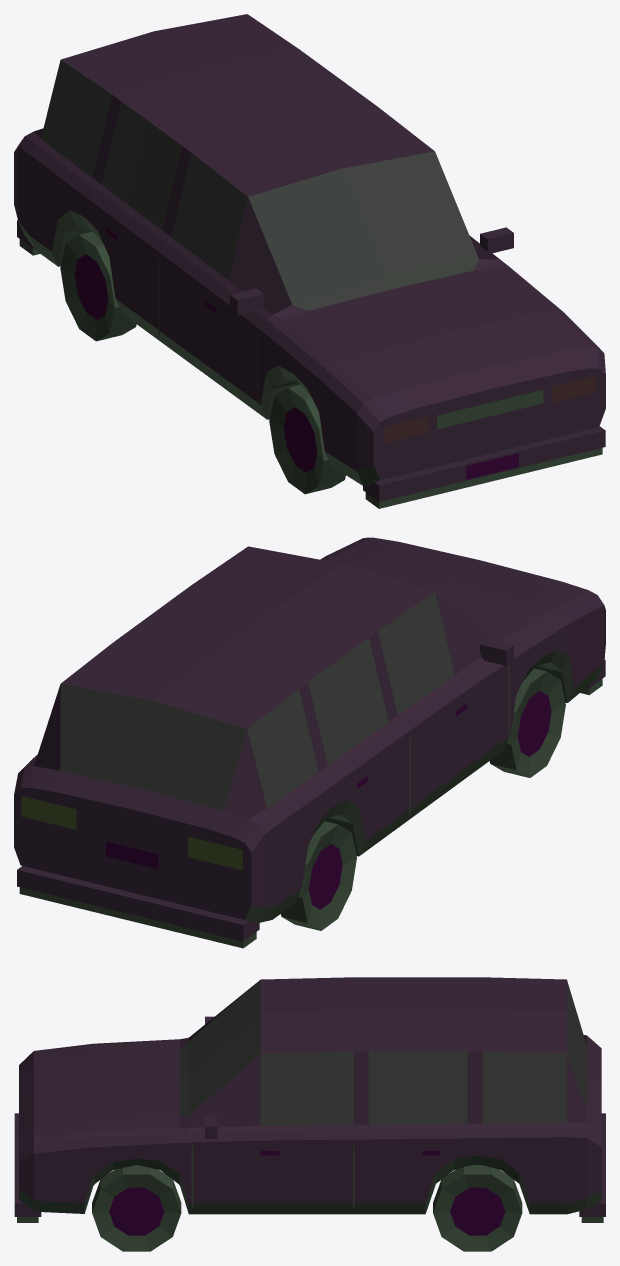
The model's file is suv.glb.
The picture shows the model from 3 angles, top to bottom: view 1: azimuth 30°, elevation 25°; view 2: azimuth 150°, elevation 25°; view 3: azimuth 270°, elevation 25°; orthographic projection. The views are drawn at different scales.
Visible parts, largest first — view 1: suv; view 2: suv; view 3: suv.
Boxes of the visible parts, bbox=[...] form: suv: bbox=[14, 14, 605, 508]; suv: bbox=[14, 537, 605, 948]; suv: bbox=[14, 977, 605, 1251].
Size of the model in its own units: 2.1 by 1.72 by 4.78.
